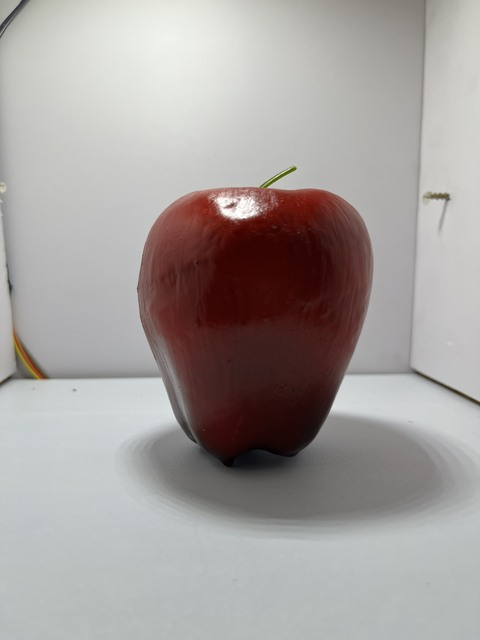Tao: (128, 171, 382, 474)
